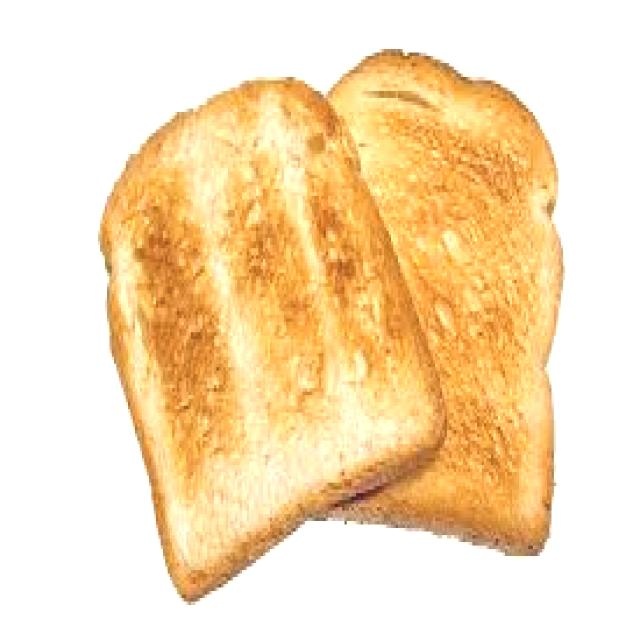wet: (98, 35, 583, 590)
